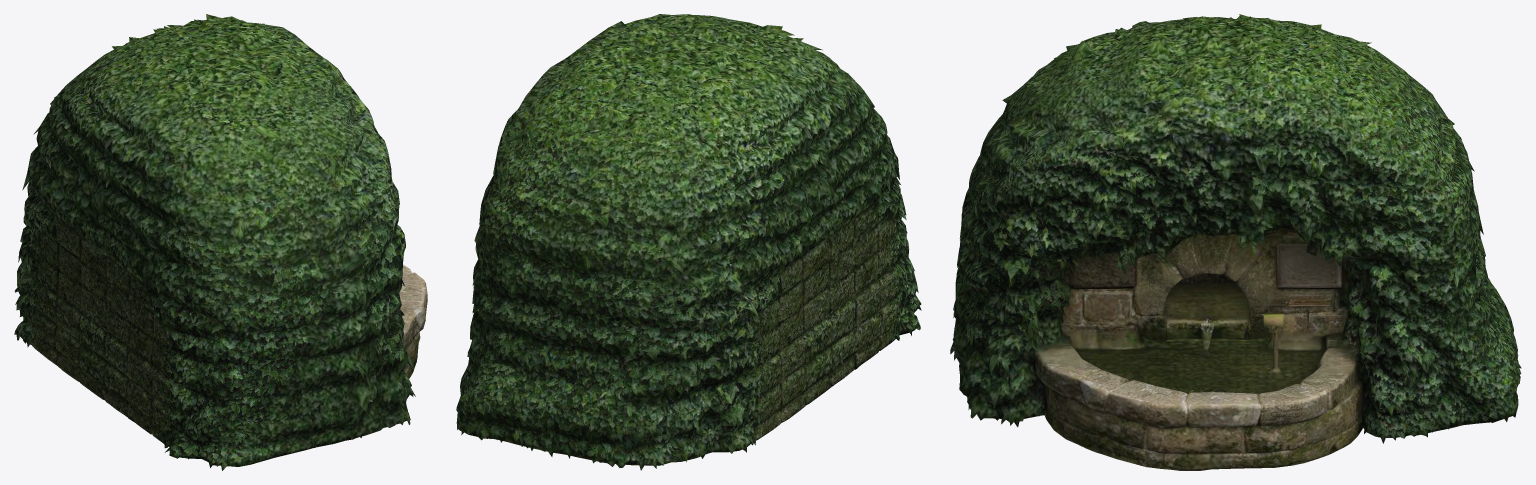
File: jq_quelle.glb
The picture shows the model from 3 angles, left to right: view 1: azimuth 30°, elevation 25°; view 2: azimuth 150°, elevation 25°; view 3: azimuth 270°, elevation 25°; orthographic projection. The views are drawn at different scales.
Parts seen in each view (by area): view 1: tripo_node_20880b9c-954d-480a-af11-f3970ff88586; view 2: tripo_node_20880b9c-954d-480a-af11-f3970ff88586; view 3: tripo_node_20880b9c-954d-480a-af11-f3970ff88586.
Boxes of the visible parts, x1,y1,x2,y2 form: tripo_node_20880b9c-954d-480a-af11-f3970ff88586: (14,14,427,470); tripo_node_20880b9c-954d-480a-af11-f3970ff88586: (456,14,921,470); tripo_node_20880b9c-954d-480a-af11-f3970ff88586: (950,14,1521,470).
Bounding box in the file's own units: 0.7131 × 0.6676 × 1.
1 material, 1 textured.
